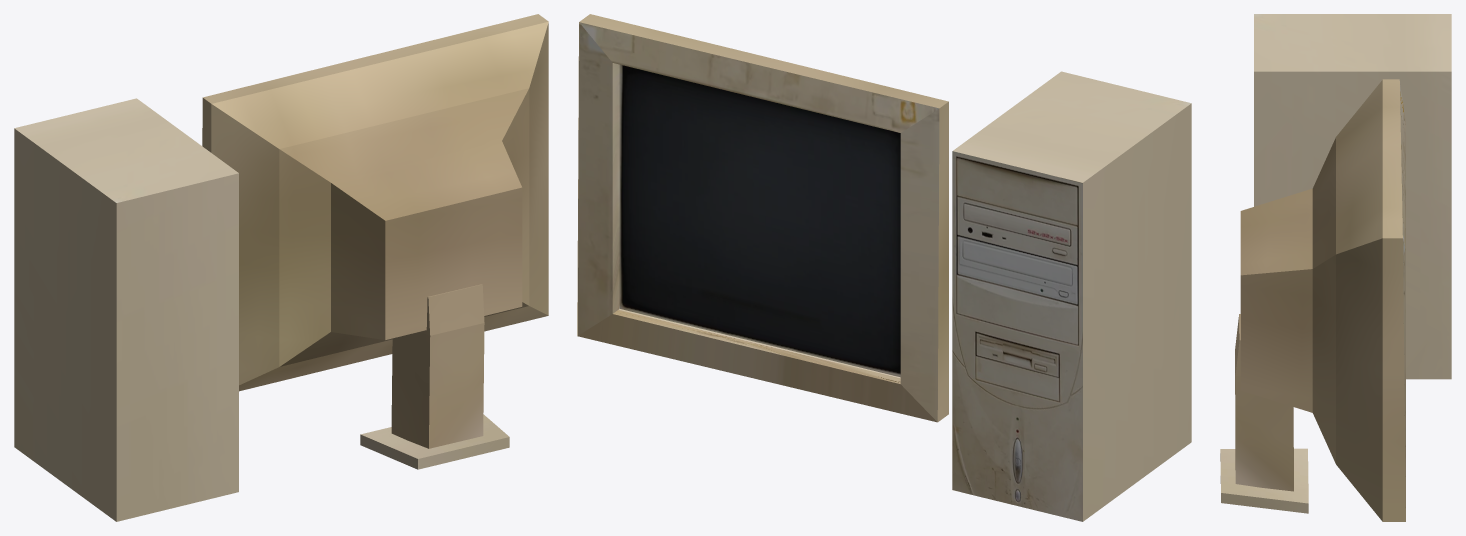
File: computer.fbx
3 views of the same model, side by side, from view 1: azimuth 30°, elevation 25°; view 2: azimuth 150°, elevation 25°; view 3: azimuth 270°, elevation 25° (orthographic). The views are drawn at different scales.
Parts seen in each view (by area): view 1: Cube; view 2: Cube; view 3: Cube.
Part boxes in pixels (x1,y1,x2,y2): Cube: (14,14,548,521); Cube: (577,14,1191,521); Cube: (1220,14,1451,521).
Size of the model in its own units: 44.38 by 28.93 by 18.46.
